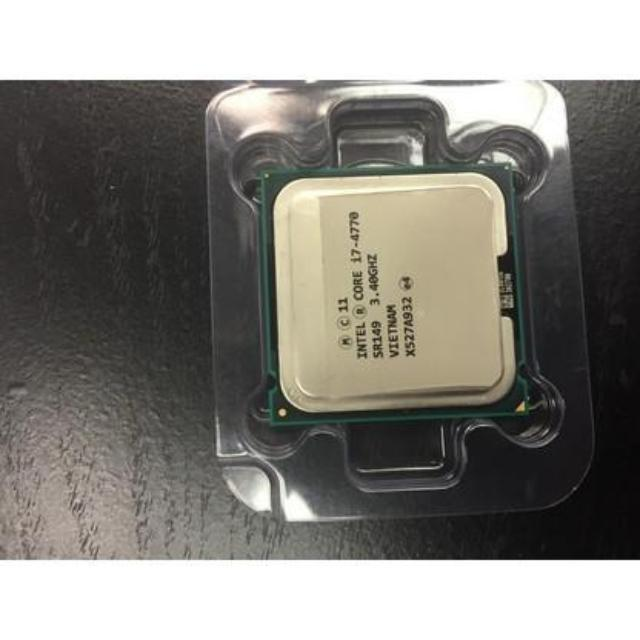CPU: (264, 172, 521, 412)
